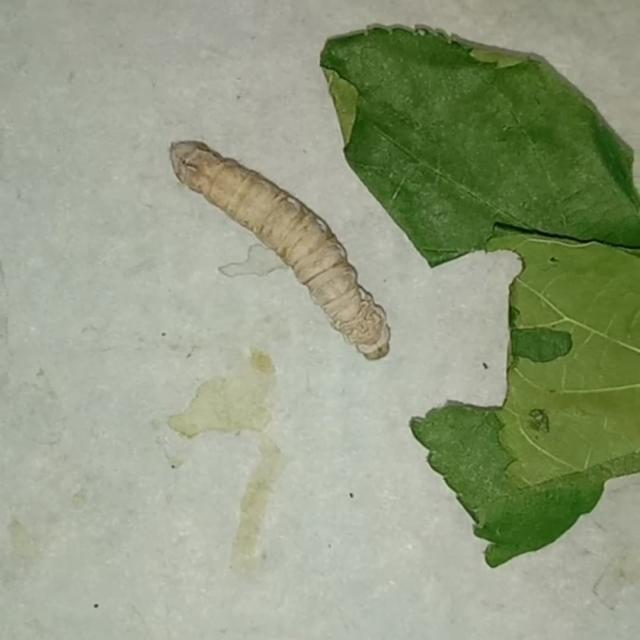Grasserie: (144, 107, 408, 380)
